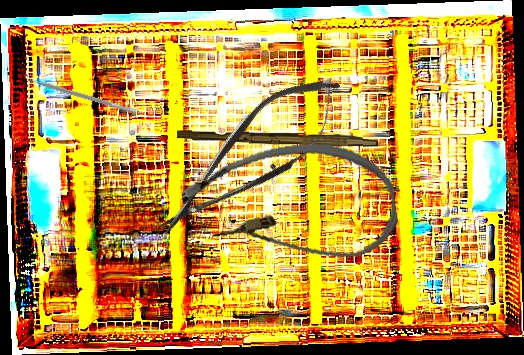Cannula: (177, 132, 402, 280)
Micro Scissor: (139, 56, 362, 259)
Scalpel Handle: (176, 129, 379, 147)
Spatula Surgical: (20, 71, 139, 115)
